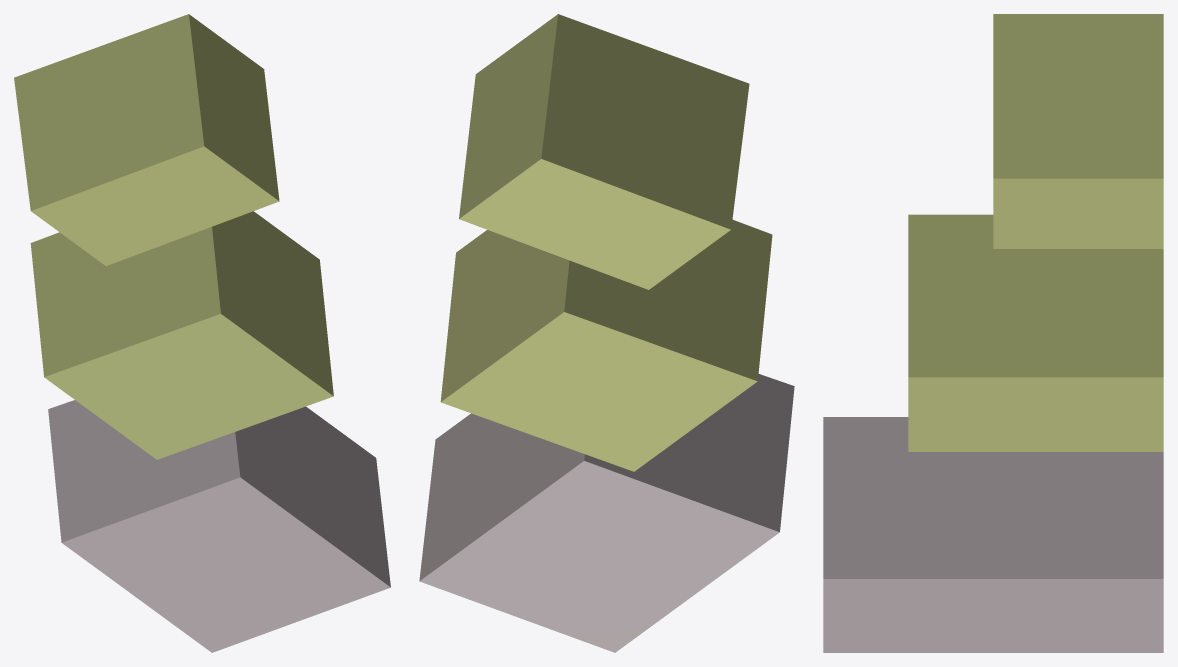
The picture shows the model from 3 angles, left to right: view 1: azimuth 30°, elevation 25°; view 2: azimuth 150°, elevation 25°; view 3: azimuth 270°, elevation 25°; orthographic projection. The views are drawn at different scales.
Visible parts, largest first — view 1: 0_1_2_3_3_3_3_0_3_1; view 2: 0_1_2_3_3_3_3_0_3_1; view 3: 0_1_2_3_3_3_3_0_3_1.
Boxes of the visible parts, x1,y1,x2,y2 form: 0_1_2_3_3_3_3_0_3_1: (14,14,390,652); 0_1_2_3_3_3_3_0_3_1: (419,14,794,652); 0_1_2_3_3_3_3_0_3_1: (823,14,1163,652).
Bounding box in the file's own units: 10.42 × 21.88 × 12.
